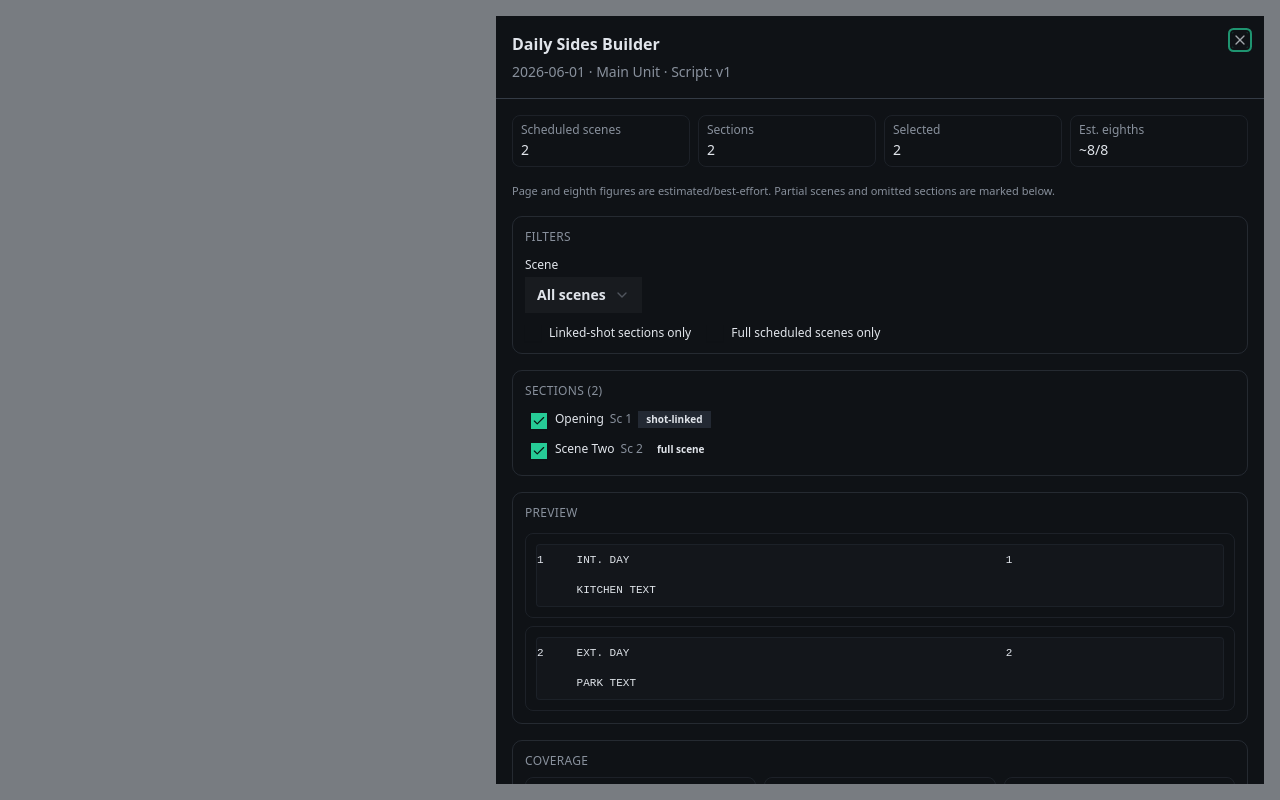
Scenario: SidesBuilderSheet › excludes a section when its checkbox is toggled off
Check: the text "KITCHEN TEXT" is shown, box [577,584,656,596]
Click the checkbox named "Include Opening" at point(539, 420), box [531,412,547,428]
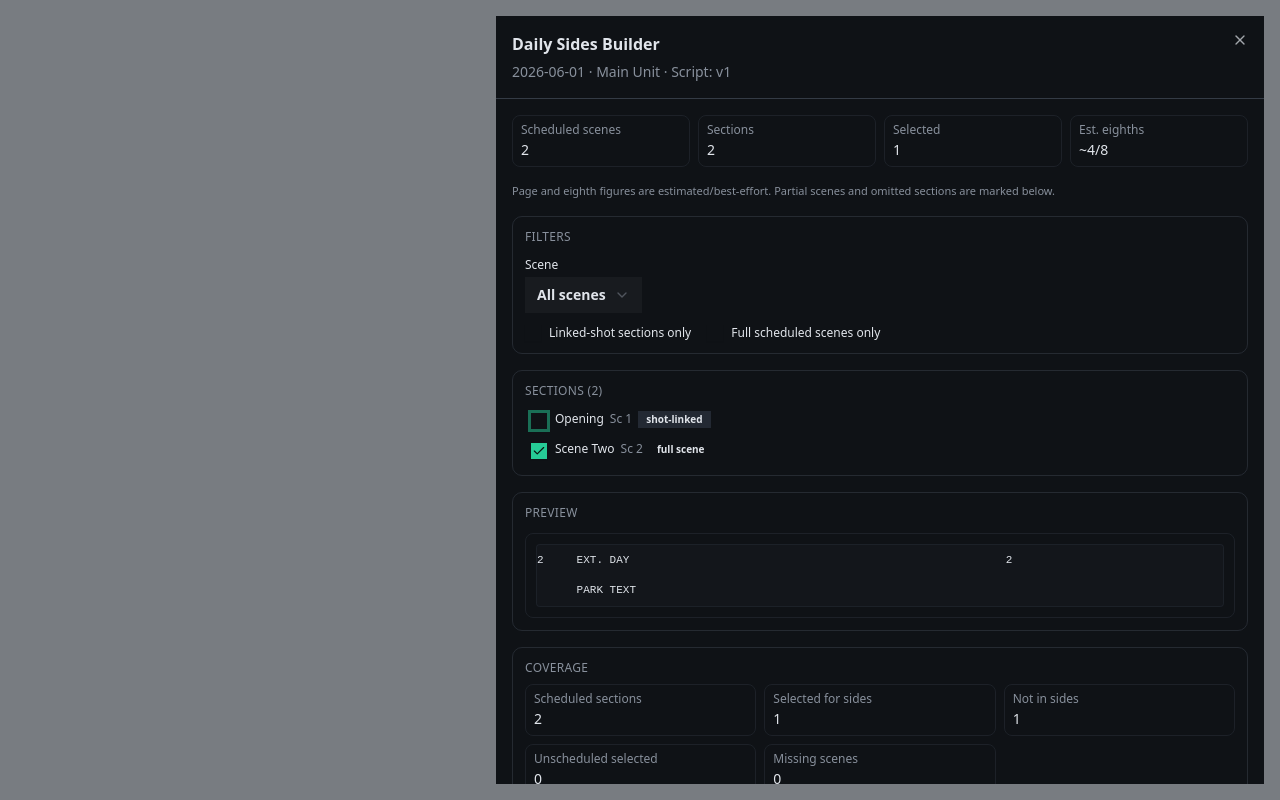
Check: the text "PARK TEXT" is shown, box [577,584,636,596]
Check: the text "KITCHEN TEXT" is gone
